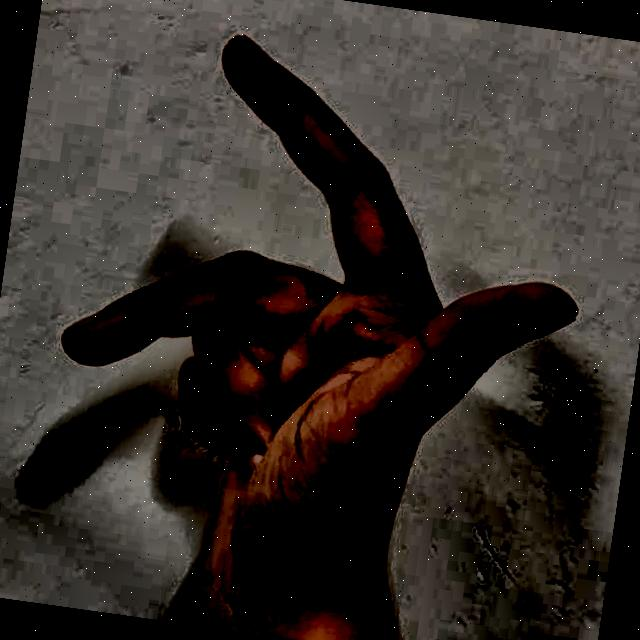Da: (8, 0, 634, 640)
